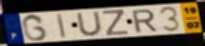3: (159, 6, 182, 33)
G: (21, 13, 49, 42)
I: (56, 12, 68, 39)
R: (130, 8, 159, 34)
U: (75, 11, 105, 37)
Z: (101, 9, 131, 37)
